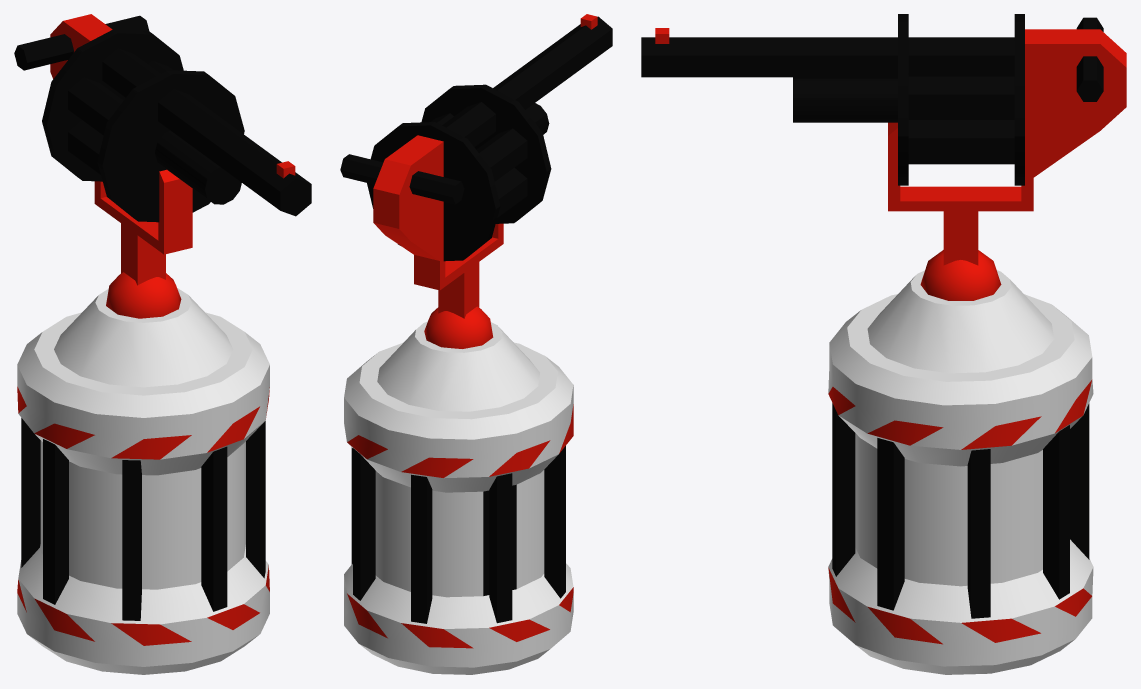
Rendered from TurretGranade.fbx.
3 renders of one model, left to right at view 1: azimuth 30°, elevation 25°; view 2: azimuth 150°, elevation 25°; view 3: azimuth 270°, elevation 25°, orthographic. The views are drawn at different scales.
Visible parts, largest first — view 1: Cylinder, Icosphere; view 2: Cylinder, Icosphere; view 3: Cylinder, Icosphere.
Boxes of the visible parts, <box> form: Cylinder: <box>17,288,269,674</box>; Icosphere: <box>14,14,311,318</box>; Cylinder: <box>344,321,573,674</box>; Icosphere: <box>340,14,612,348</box>; Cylinder: <box>828,270,1093,674</box>; Icosphere: <box>641,14,1126,300</box>.
Bounding box in the file's own units: 2 × 5.04 × 3.66.
